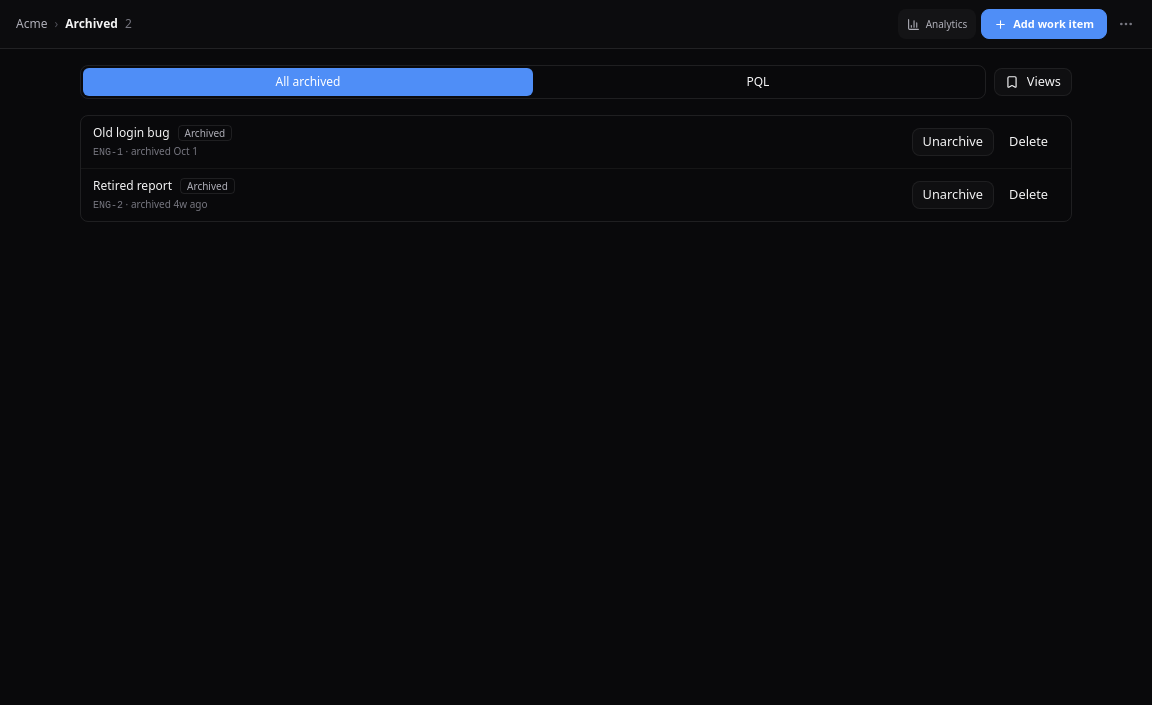
Test case: archived PQL mode (C111T1) › editor shows the corrected save hint now that the menu is the save path (C111T3 supersedes the staged C111T1 text)
Expected: the link "Old login bug" is shown, [93,124,170,142]
Expected: the link "Retired report" is shown, [93,177,172,195]
Click the button "PQL" at x=758, y=82, box [533,68,983,96]
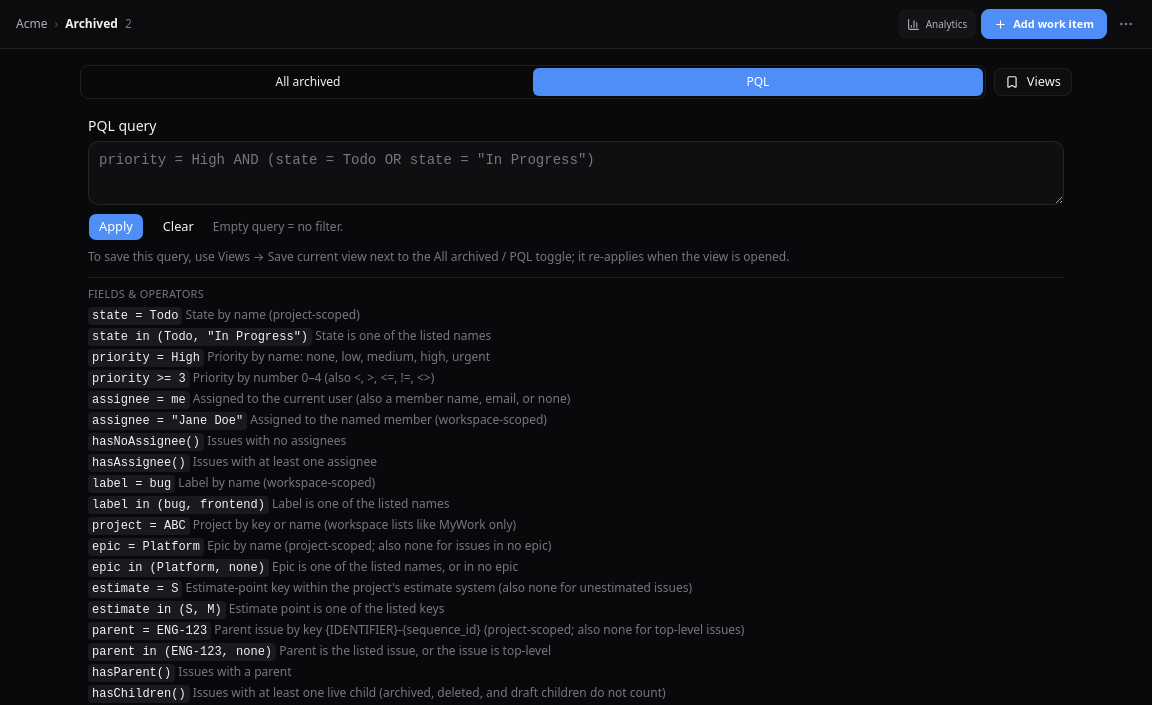
Now the text box labelled "PQL query" is shown, box [88,141,1064,205]
Now the text "To save this query, use Views → Save current view next to the All archived / PQL toggle; it re-applies when the view is " is shown, box [88,248,790,265]
